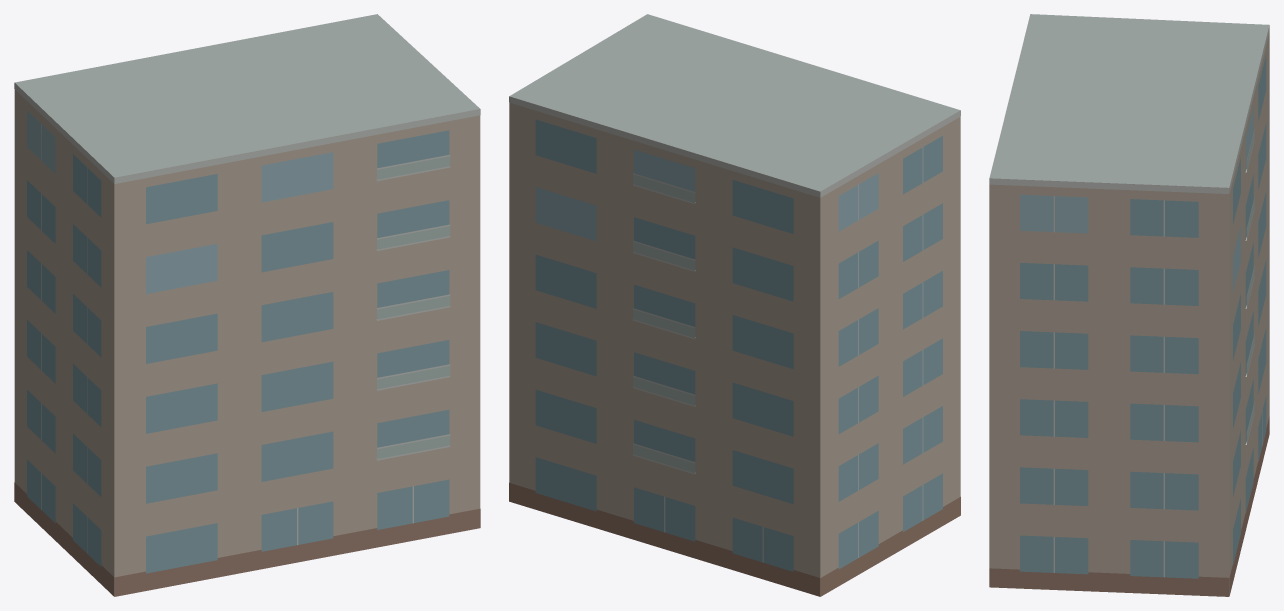
The model's file is survey-upis-32929741.glb.
3 views of the same model, side by side, from view 1: azimuth 30°, elevation 25°; view 2: azimuth 150°, elevation 25°; view 3: azimuth 270°, elevation 25° (orthographic). The views are drawn at different scales.
Visible parts, largest first — view 1: survey-upis-32929741.tmp; view 2: survey-upis-32929741.tmp; view 3: survey-upis-32929741.tmp.
Part boxes in pixels (left/top/right/bottom): survey-upis-32929741.tmp: left=14, top=14, right=480, bottom=596; survey-upis-32929741.tmp: left=509, top=14, right=960, bottom=596; survey-upis-32929741.tmp: left=989, top=14, right=1269, bottom=596.
Size of the model in its own units: 14.6 by 16 by 9.94.
